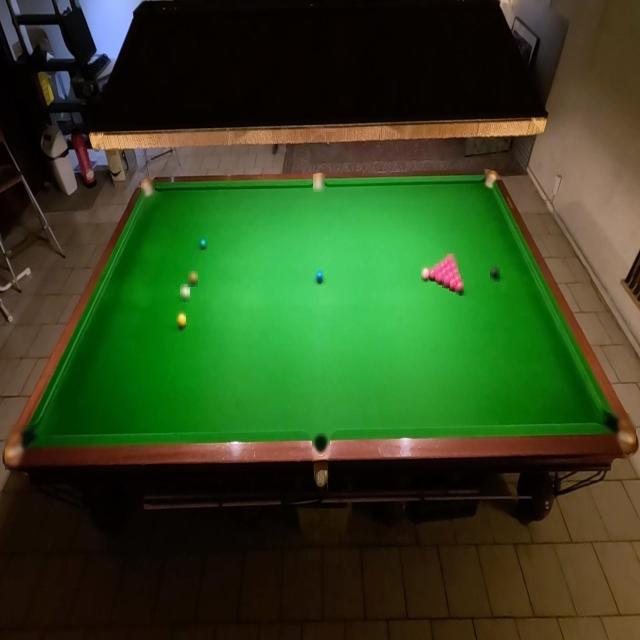Ball: (176, 312, 186, 332), (180, 284, 190, 302), (490, 264, 500, 282), (422, 266, 432, 283), (188, 272, 198, 288), (315, 269, 324, 286), (199, 237, 208, 252), (456, 280, 464, 296), (436, 270, 444, 285), (430, 267, 438, 282), (450, 277, 458, 291), (442, 274, 450, 288), (454, 273, 462, 286), (434, 264, 442, 276), (438, 260, 446, 272), (450, 260, 458, 272), (443, 256, 451, 268), (452, 266, 459, 278), (448, 254, 456, 264), (441, 267, 448, 278), (448, 270, 454, 281), (446, 264, 452, 274)
Pocket: (6, 425, 40, 470), (603, 414, 636, 452), (312, 434, 330, 456), (482, 171, 498, 190), (141, 180, 155, 199), (314, 174, 326, 192)
